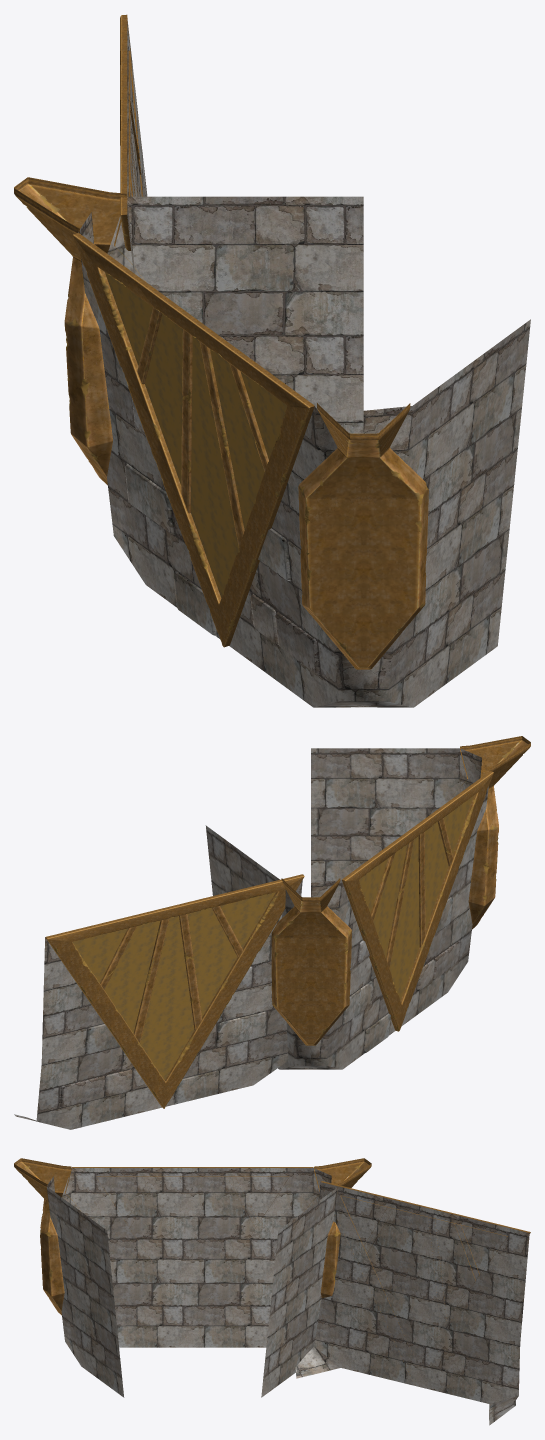
The picture shows the model from 3 angles, top to bottom: view 1: azimuth 30°, elevation 25°; view 2: azimuth 150°, elevation 25°; view 3: azimuth 270°, elevation 25°; orthographic projection. The views are drawn at different scales.
Parts seen in each view (by area): view 1: SM_Nightmare_Crucible_Arena_Bottom_Section_01v1_LOD0; view 2: SM_Nightmare_Crucible_Arena_Bottom_Section_01v1_LOD0; view 3: SM_Nightmare_Crucible_Arena_Bottom_Section_01v1_LOD0.
Part boxes in pixels (<box>): SM_Nightmare_Crucible_Arena_Bottom_Section_01v1_LOD0: <box>14,14,530,707</box>; SM_Nightmare_Crucible_Arena_Bottom_Section_01v1_LOD0: <box>14,736,530,1129</box>; SM_Nightmare_Crucible_Arena_Bottom_Section_01v1_LOD0: <box>14,1158,530,1425</box>.
Size of the model in its own units: 48.32 by 44.45 by 117.
Materials: 4 (4 with a texture image).
